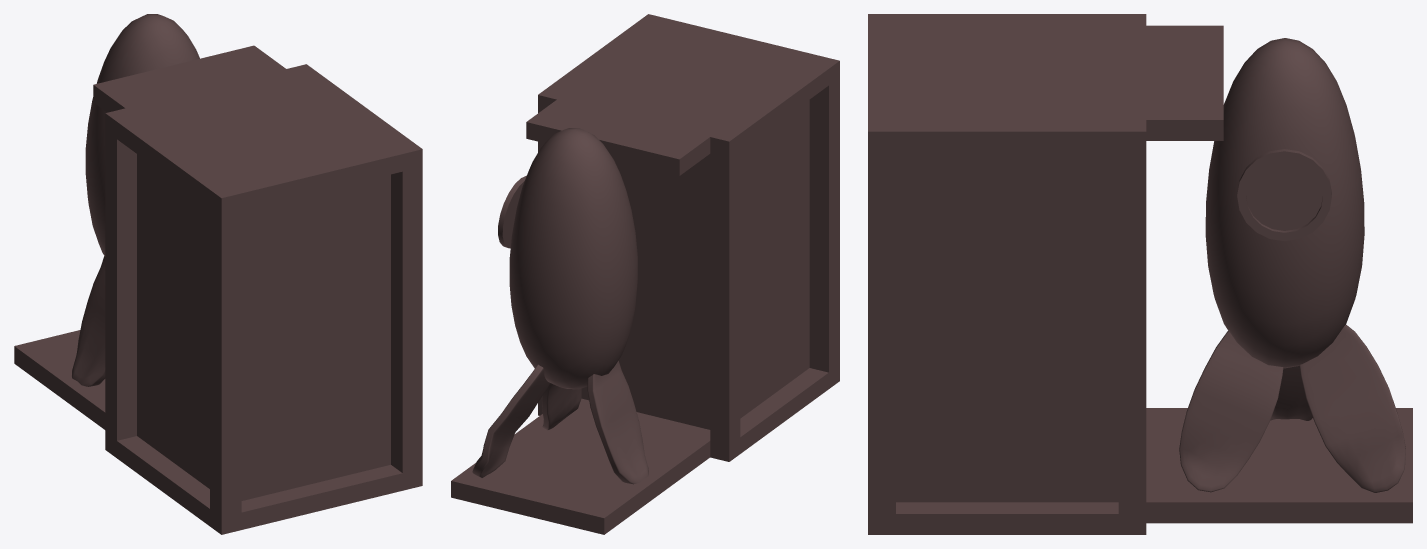
Rendered from Spaceship.fbx.
The picture shows the model from 3 angles, left to right: view 1: azimuth 30°, elevation 25°; view 2: azimuth 150°, elevation 25°; view 3: azimuth 270°, elevation 25°; orthographic projection. The views are drawn at different scales.
Parts seen in each view (by area): view 1: SpaceShip; view 2: SpaceShip; view 3: SpaceShip.
Part boxes in pixels (x1,y1,x2,y2): SpaceShip: [14, 14, 422, 534]; SpaceShip: [451, 14, 839, 534]; SpaceShip: [868, 14, 1412, 534].
Bounding box in the file's own units: 5.86 × 10.18 × 11.48.
